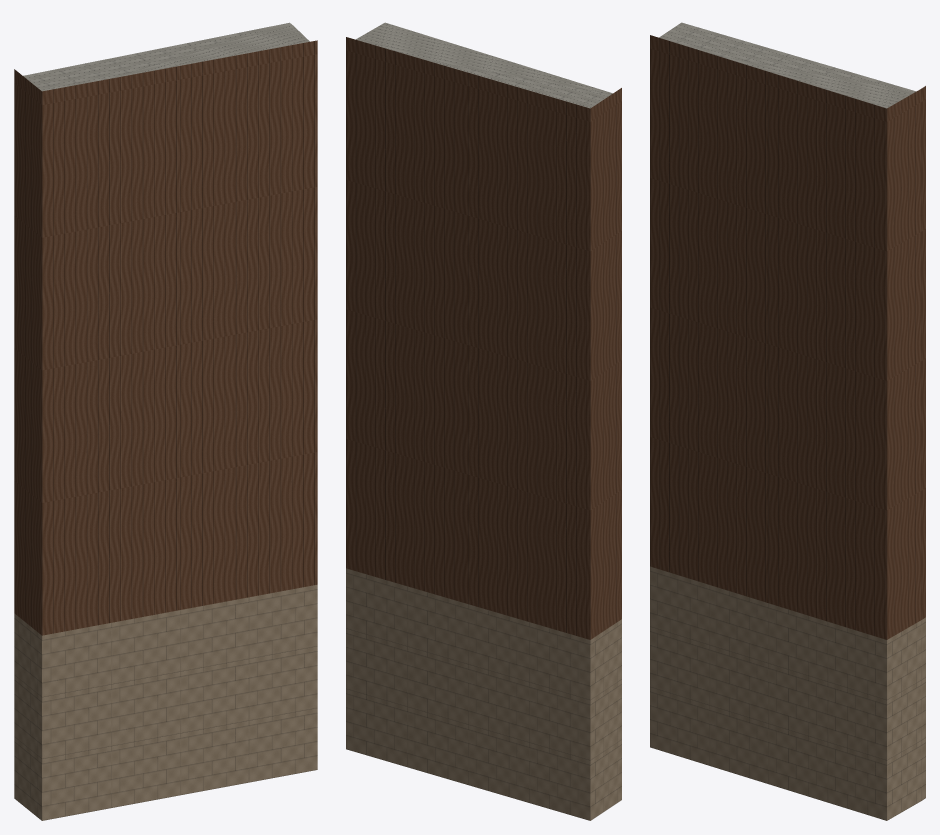
The model's file is bld_c-2_1_537.gltf.
3 views of the same model, side by side, from view 1: azimuth 30°, elevation 25°; view 2: azimuth 150°, elevation 25°; view 3: azimuth 330°, elevation 25° (orthographic). The views are drawn at different scales.
Parts seen in each view (by area): view 1: bld_c-2_1_537; view 2: bld_c-2_1_537; view 3: bld_c-2_1_537.
Boxes of the visible parts, x1=… form: bld_c-2_1_537: x1=14, y1=22, x2=317, y2=820; bld_c-2_1_537: x1=346, y1=22, x2=621, y2=820; bld_c-2_1_537: x1=650, y1=22, x2=925, y2=820.
Size of the model in its own units: 7.64 by 20.08 by 2.33.
4 materials, 4 textured.
